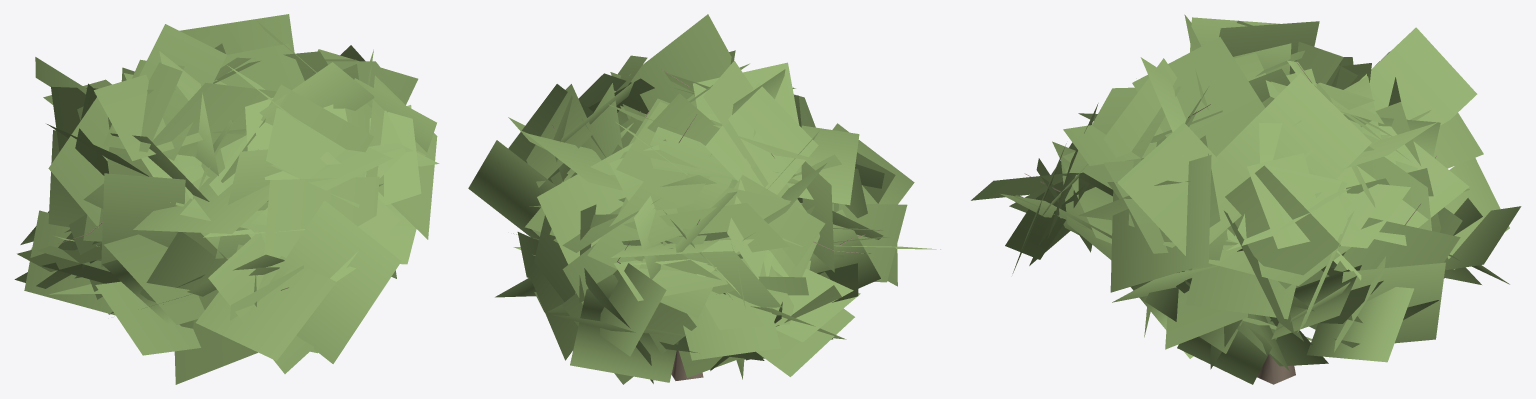
File: Oak_2_lod2.glb
The picture shows the model from 3 angles, left to right: view 1: azimuth 30°, elevation 25°; view 2: azimuth 150°, elevation 25°; view 3: azimuth 270°, elevation 25°; orthographic projection. The views are drawn at different scales.
Parts seen in each view (by area): view 1: Oak_2_lod2; view 2: Oak_2_lod2; view 3: Oak_2_lod2.
Part boxes in pixels (box(x1,y1,x2,y2)): Oak_2_lod2: box(14, 14, 439, 384); Oak_2_lod2: box(468, 14, 940, 384); Oak_2_lod2: box(971, 14, 1521, 384).
Size of the model in its own units: 21.3 by 16.44 by 24.25.
